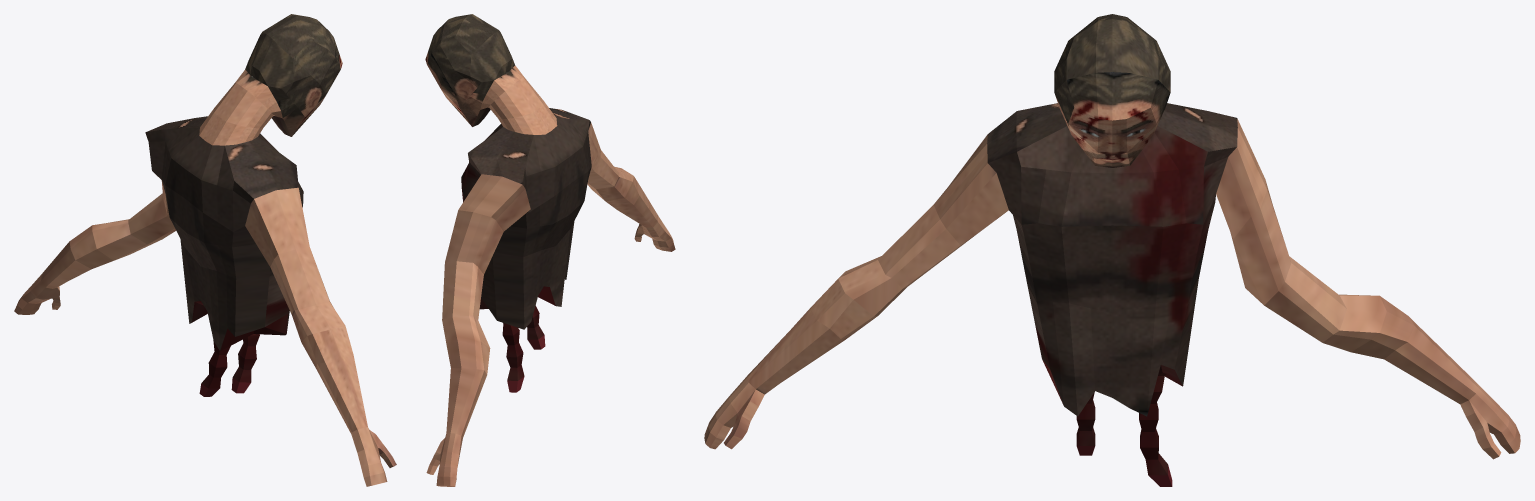
The model's file is hayaletlanbu.fbx.
3 renders of one model, left to right at view 1: azimuth 30°, elevation 25°; view 2: azimuth 150°, elevation 25°; view 3: azimuth 270°, elevation 25°, orthographic. The views are drawn at different scales.
Parts seen in each view (by area): view 1: Cube.018; view 2: Cube.018; view 3: Cube.018.
Part boxes in pixels (x1,y1,x2,y2): Cube.018: [14, 14, 396, 486]; Cube.018: [425, 14, 675, 486]; Cube.018: [704, 14, 1520, 486].
Size of the model in its own units: 57.57 by 117 by 169.
Materials: 3 (2 with a texture image).
